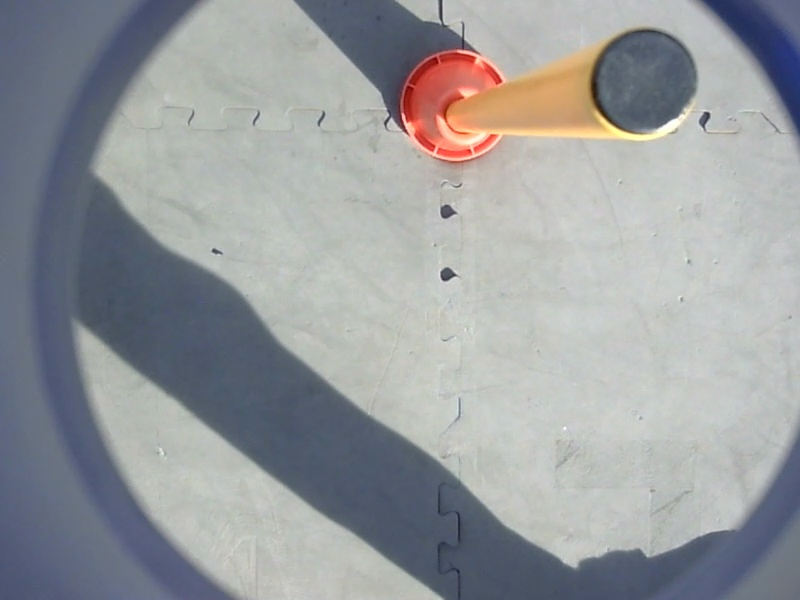tip: (583, 18, 709, 148)
